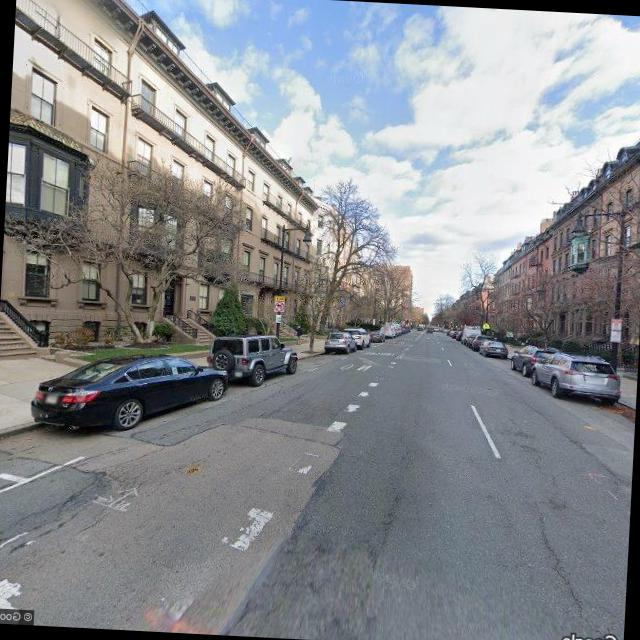pothole: (532, 507, 602, 630)
